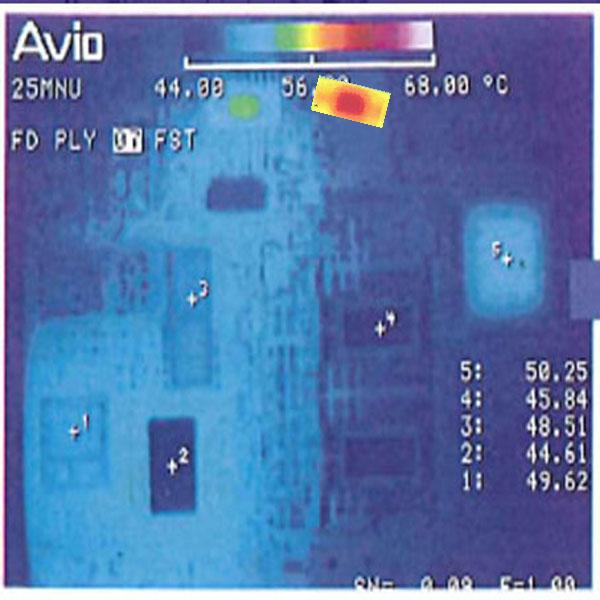componente_T: (308, 73, 394, 132), (281, 23, 352, 51)
